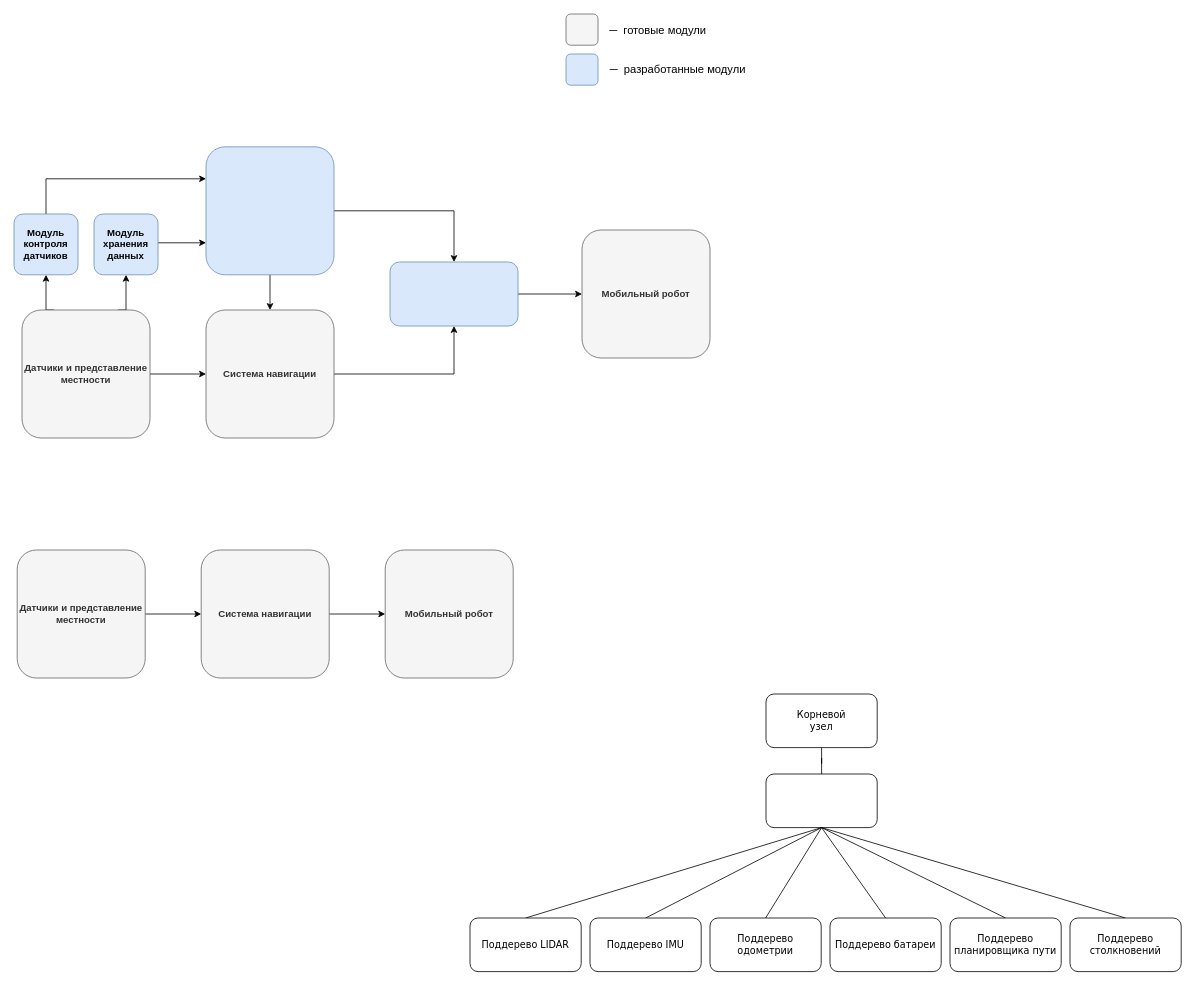
Some shapes in this 1195 by 986 pixel diagram are drawn without their labels. Here are the shapes that lost their labels. From the top down, the centre of each, then its label:
At point (269, 210): "Поведенческое дерево".
At point (453, 293): "Модуль переключения управления".
At point (821, 800): "Узел последовательности".
